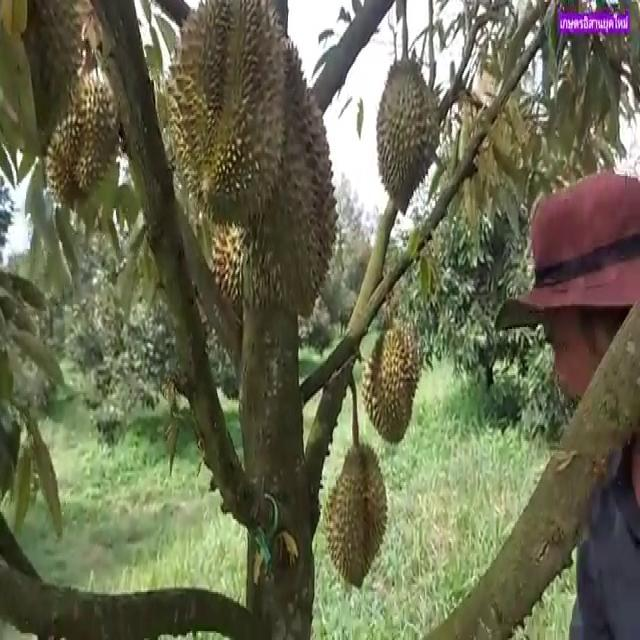durian: (210, 44, 344, 320), (159, 0, 293, 230), (41, 60, 127, 216), (371, 52, 444, 219), (318, 437, 392, 592), (357, 320, 417, 450)
